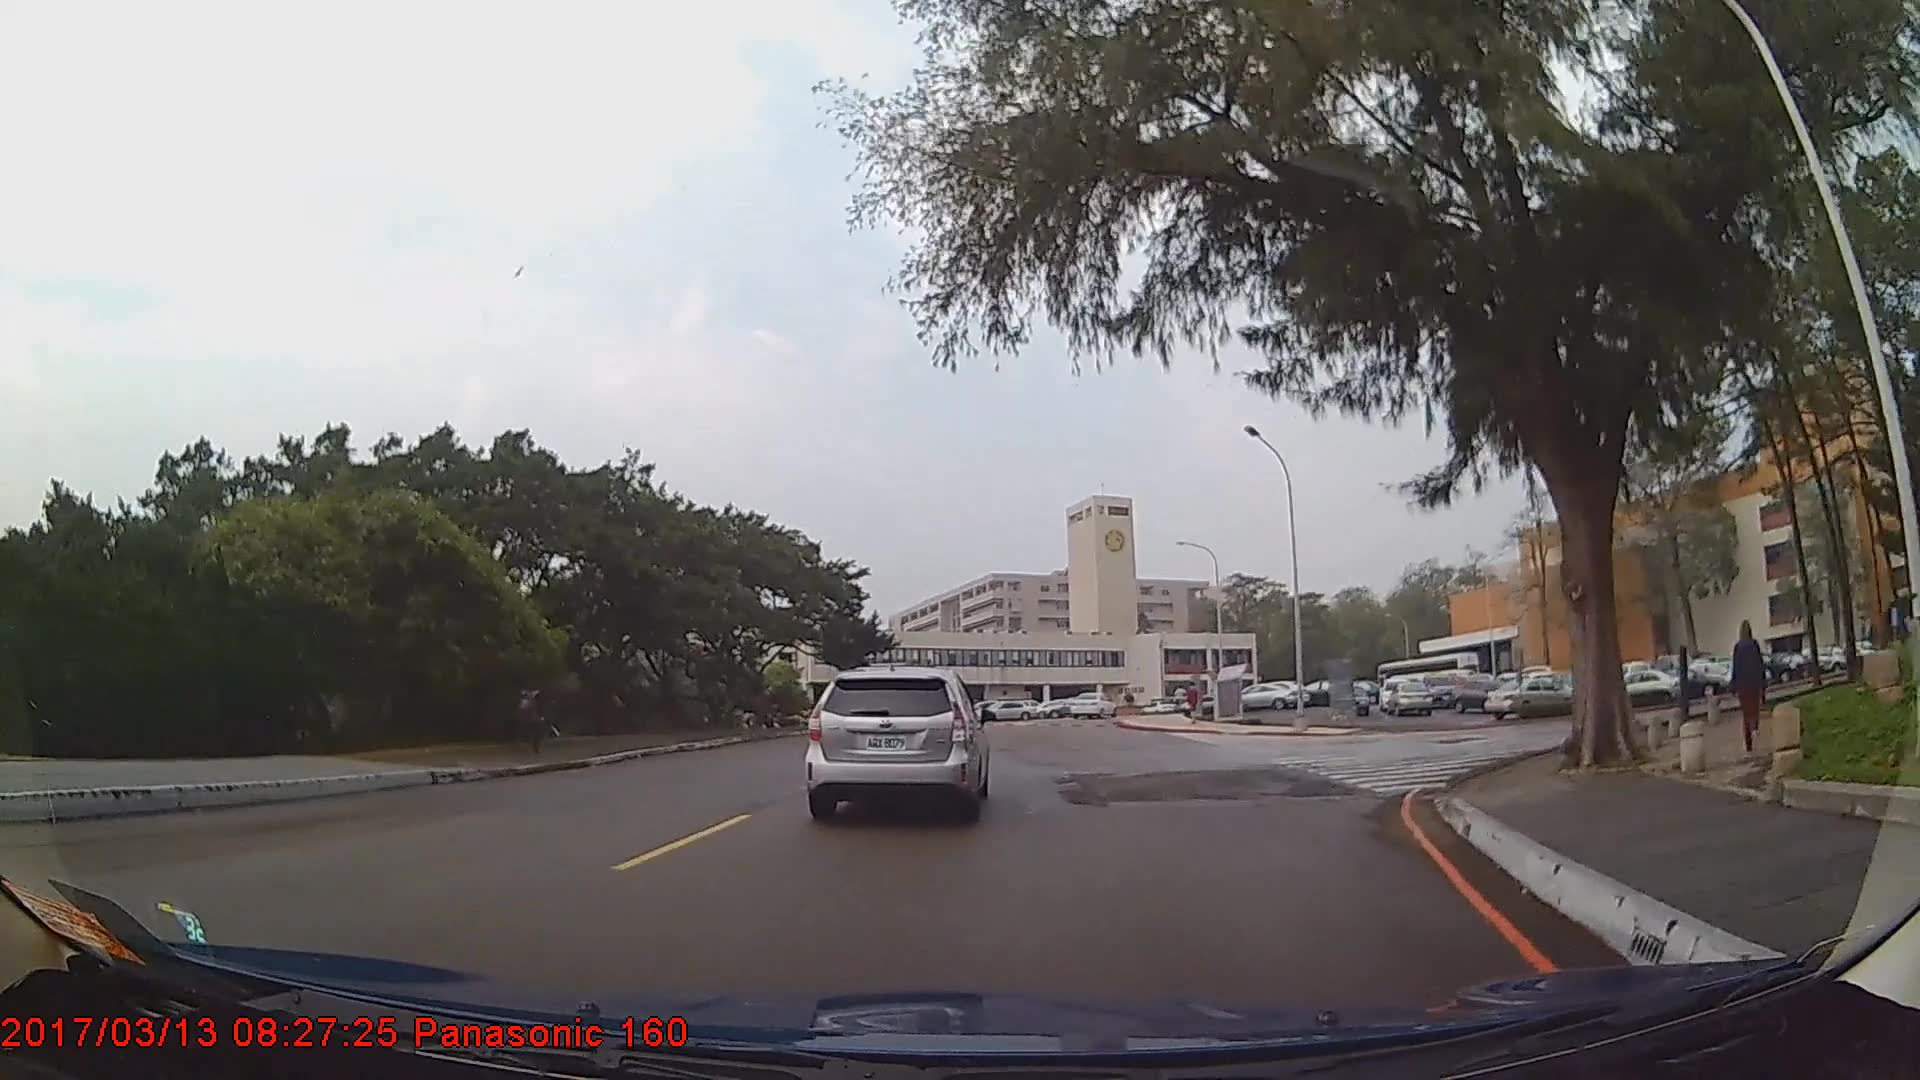pedestrian: (1719, 620, 1764, 754), (514, 670, 552, 749)
vehicle: (806, 663, 988, 821), (1477, 673, 1569, 720), (1594, 667, 1682, 702), (1446, 678, 1518, 711), (1229, 682, 1298, 707), (974, 697, 1041, 721), (1064, 690, 1115, 720), (1386, 678, 1430, 713), (1417, 671, 1456, 706), (1334, 686, 1367, 715)
